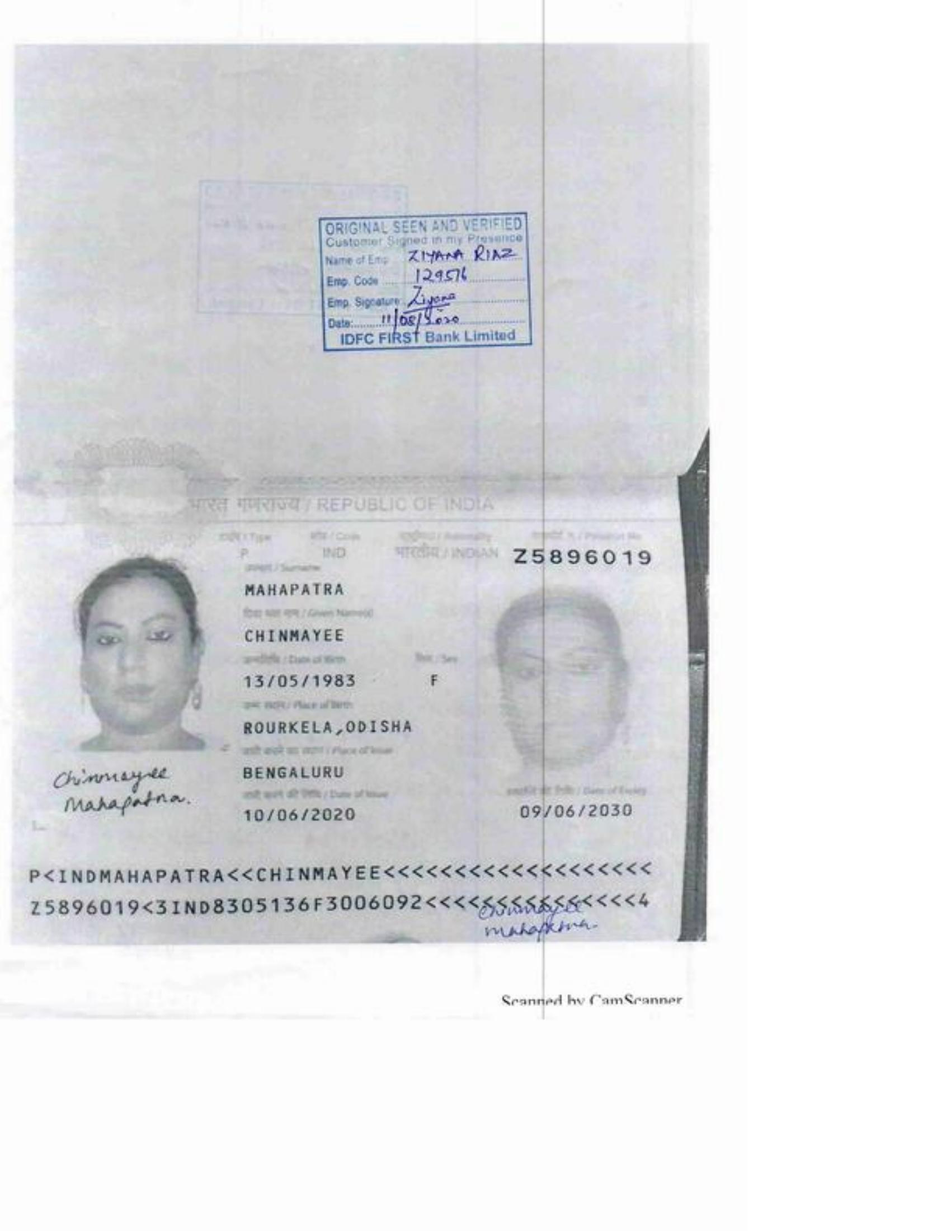DOB: (238, 668, 373, 693)
Surname: (236, 572, 359, 601)
country_code: (310, 542, 357, 569)
date_of_expiry: (504, 795, 642, 825)
date_of_issue: (235, 798, 362, 832)
details: (23, 854, 658, 925)
name: (234, 623, 382, 652)
nationality: (392, 541, 504, 564)
passport_no: (501, 539, 661, 572)
photo: (59, 565, 210, 747)
place_of_birth: (238, 715, 426, 742)
place_of_issue: (233, 760, 350, 787)
sex: (412, 664, 458, 698)
sign: (55, 760, 186, 828)
type: (224, 538, 269, 565)
